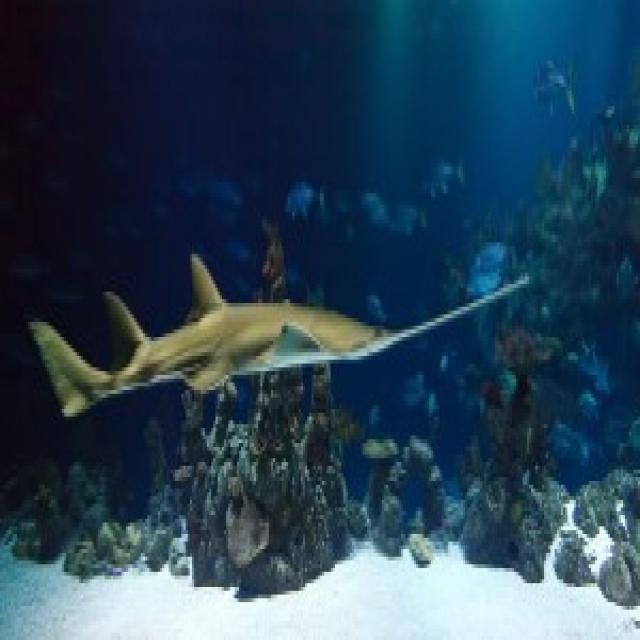Shark: (19, 244, 536, 416)
